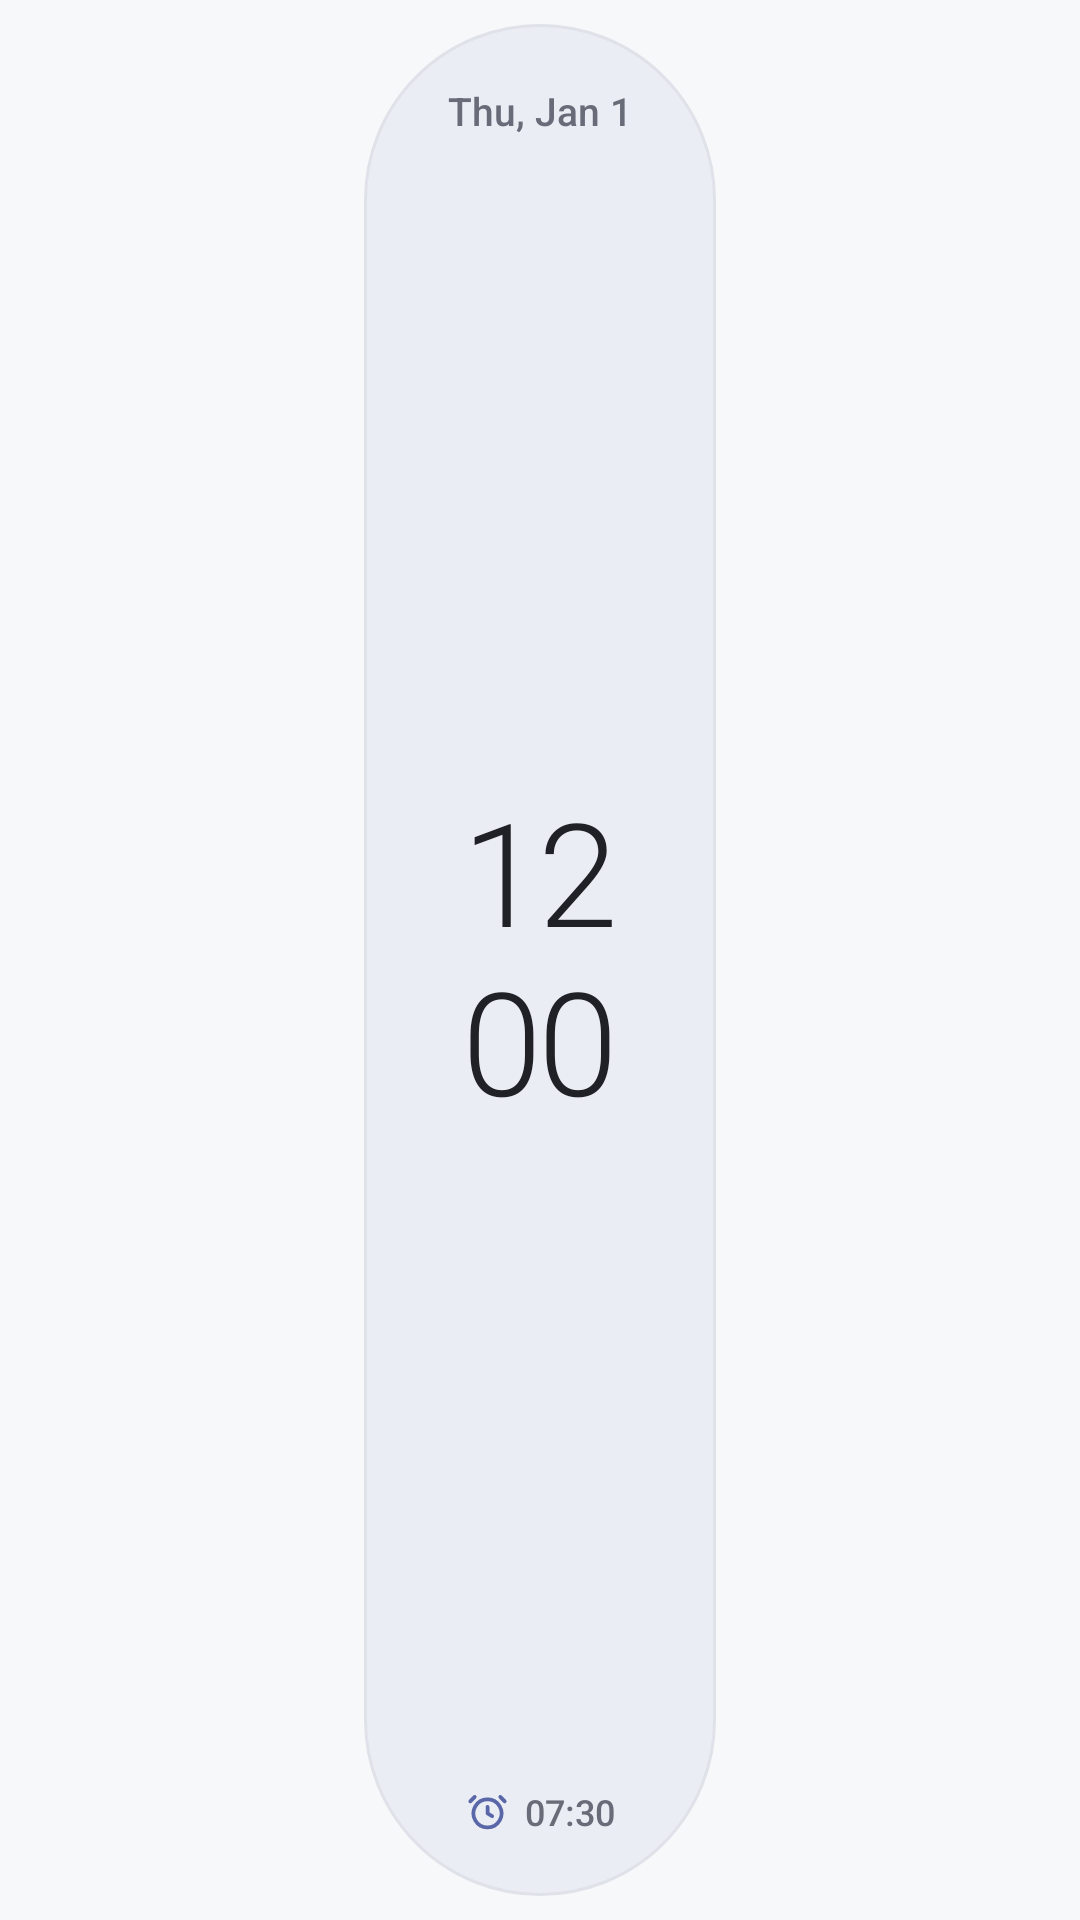

Icon bounding boxes for this 1080w x 1920h phone screenshot, format (x1, y1, x2, y2):
widget alarm: (468, 1795, 507, 1830)
